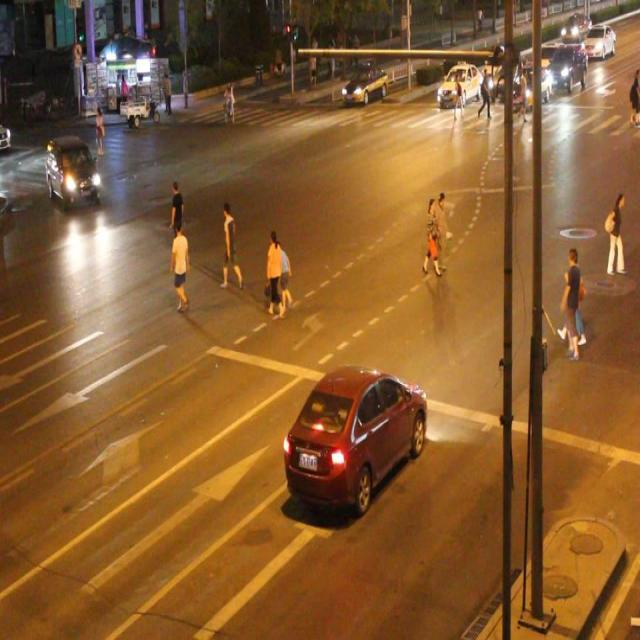car: (284, 364, 426, 517), (46, 136, 100, 204)
